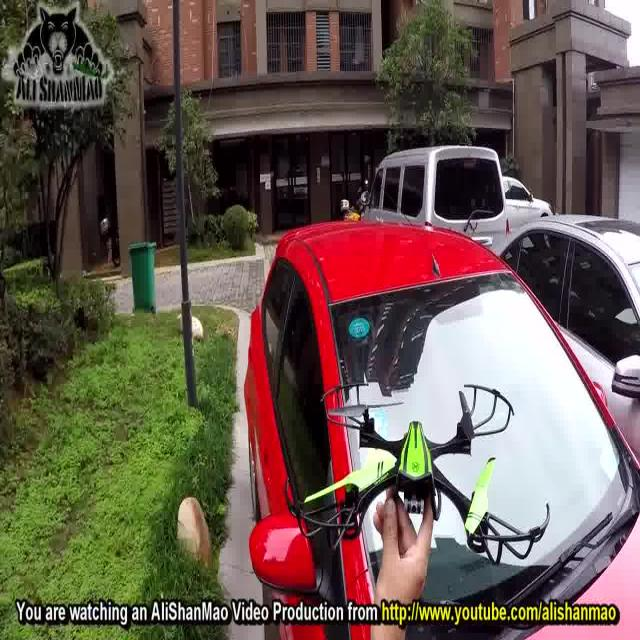Drone_FW: (281, 378, 553, 556)
